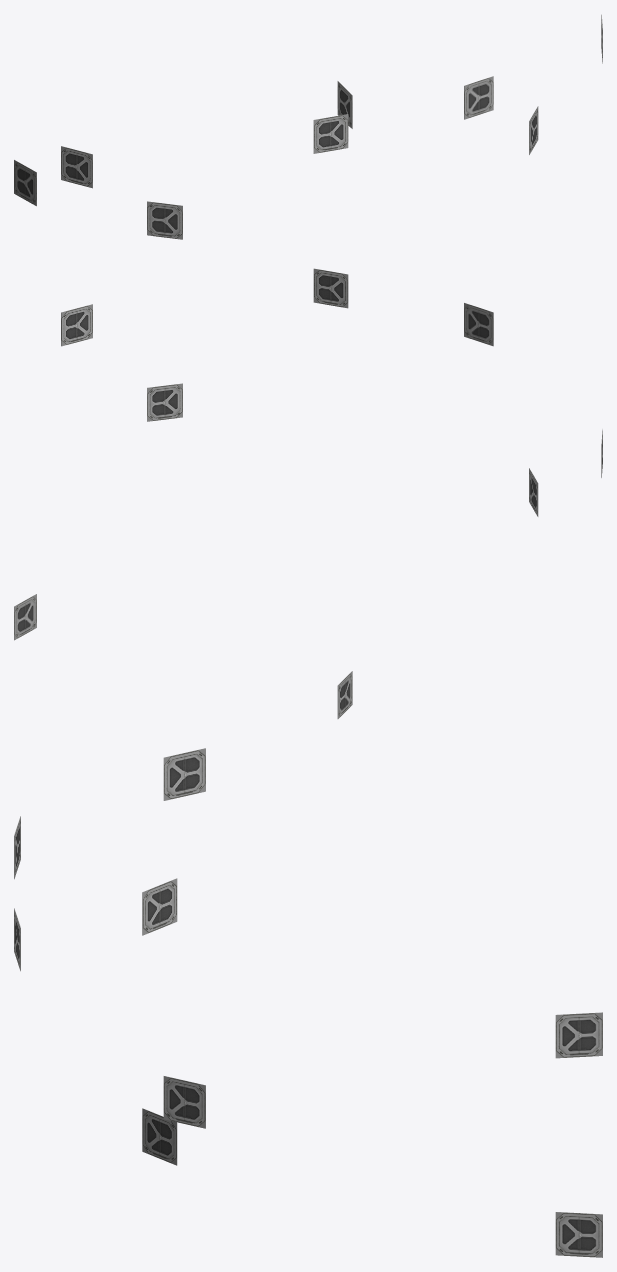
3 renders of one model, top to bottom at view 1: azimuth 30°, elevation 25°; view 2: azimuth 150°, elevation 25°; view 3: azimuth 270°, elevation 25°, orthographic. The views are drawn at different scales.
Parts seen in each view (by area): view 1: Object016_LOD0; view 2: Object016_LOD0; view 3: Object016_LOD0.
Boxes of the visible parts, <box> form: Object016_LOD0: <box>14,14,602,239</box>; Object016_LOD0: <box>14,268,602,718</box>; Object016_LOD0: <box>14,748,602,1257</box>.
Bounding box in the file's own units: 4489 × 3312 × 1767.
